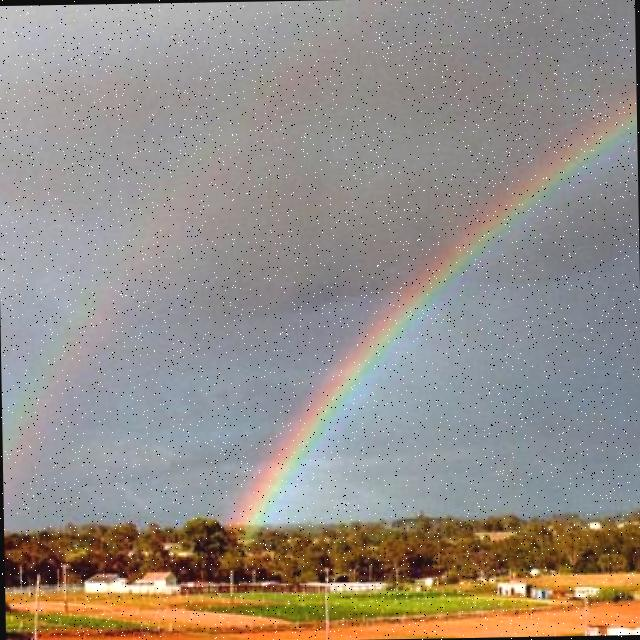Ns: (1, 1, 640, 477)
